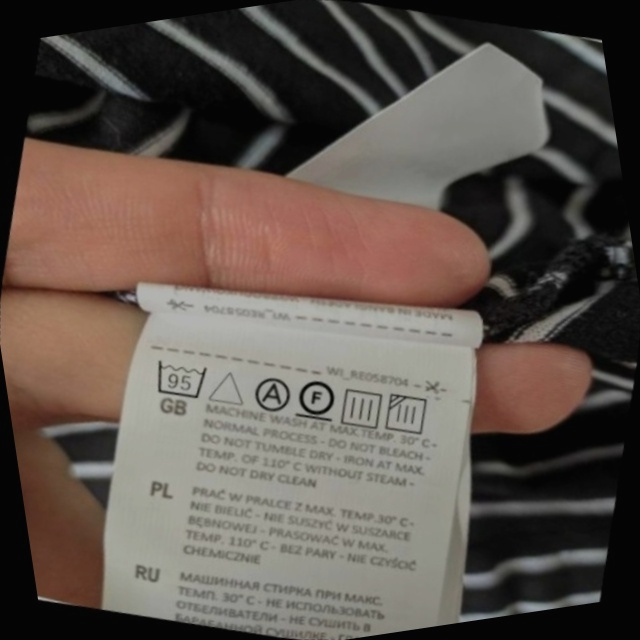95C: (145, 347, 218, 410)
bleach: (202, 358, 254, 415)
drip_dry: (331, 377, 393, 438)
drip_dry_in_shade: (377, 383, 441, 446)
dry_clean: (244, 367, 299, 420)
dry_clean_petrol_only: (288, 367, 346, 430)
